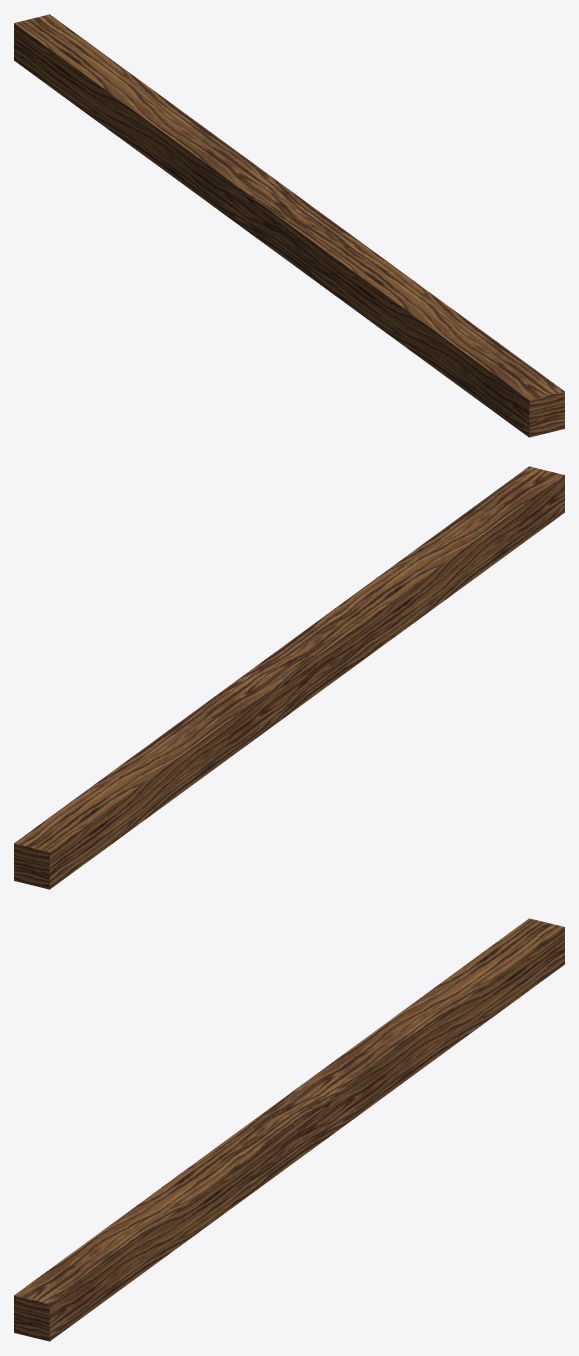
The model's file is LAKETOWN_WAREHOUSE2_PS_WH2_ROPETRACK__GX.fbx.
3 renders of one model, top to bottom at view 1: azimuth 30°, elevation 25°; view 2: azimuth 150°, elevation 25°; view 3: azimuth 330°, elevation 25°, orthographic.
Visible parts, largest first — view 1: LAKETOWN_WAREHOUSE2_PS_WH2_ROPETRACK__GX; view 2: LAKETOWN_WAREHOUSE2_PS_WH2_ROPETRACK__GX; view 3: LAKETOWN_WAREHOUSE2_PS_WH2_ROPETRACK__GX.
Boxes of the visible parts, bbox=[...] form: LAKETOWN_WAREHOUSE2_PS_WH2_ROPETRACK__GX: bbox=[14, 14, 564, 437]; LAKETOWN_WAREHOUSE2_PS_WH2_ROPETRACK__GX: bbox=[14, 466, 564, 889]; LAKETOWN_WAREHOUSE2_PS_WH2_ROPETRACK__GX: bbox=[14, 918, 564, 1341].
Size of the model in its own units: 5015 by 5132 by 125121.
Materials: 3 (3 with a texture image).
